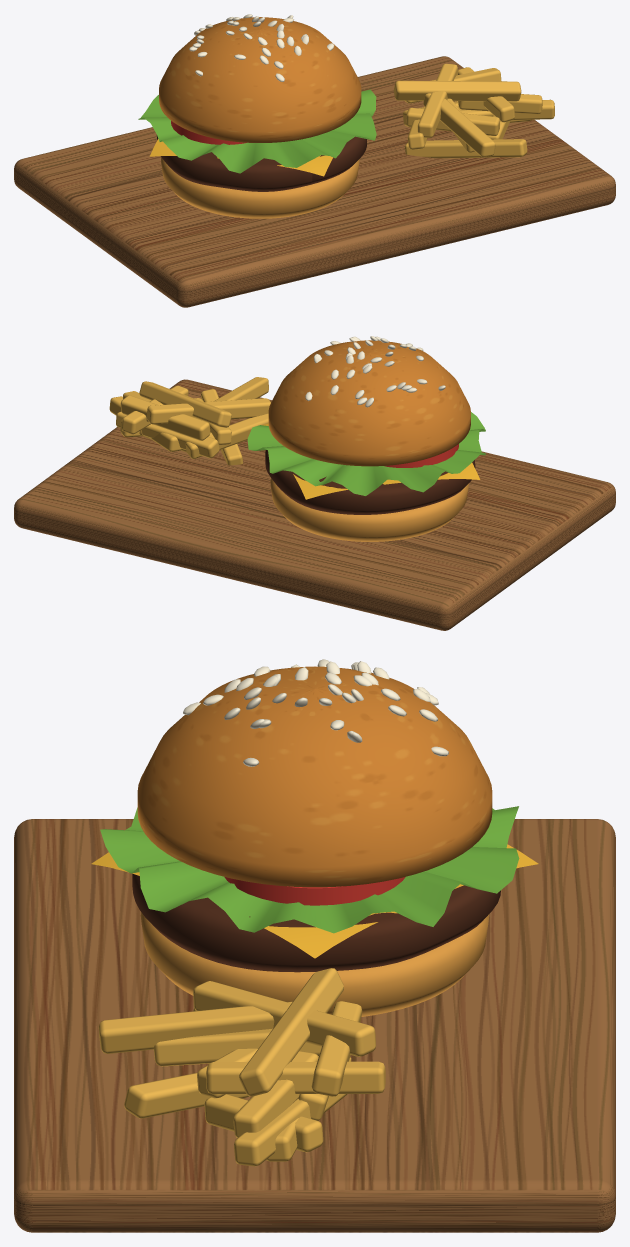
The model's file is x-burger.glb.
3 renders of one model, top to bottom at view 1: azimuth 30°, elevation 25°; view 2: azimuth 150°, elevation 25°; view 3: azimuth 270°, elevation 25°, orthographic. The views are drawn at different scales.
Bounding box in the file's own units: 0.2818 × 0.1126 × 0.19.
Materials: 10 (2 with a texture image).
